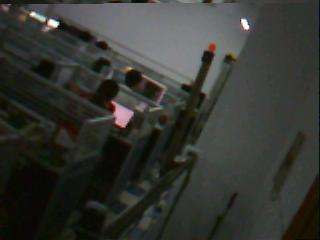oball: (208, 43, 216, 50)
